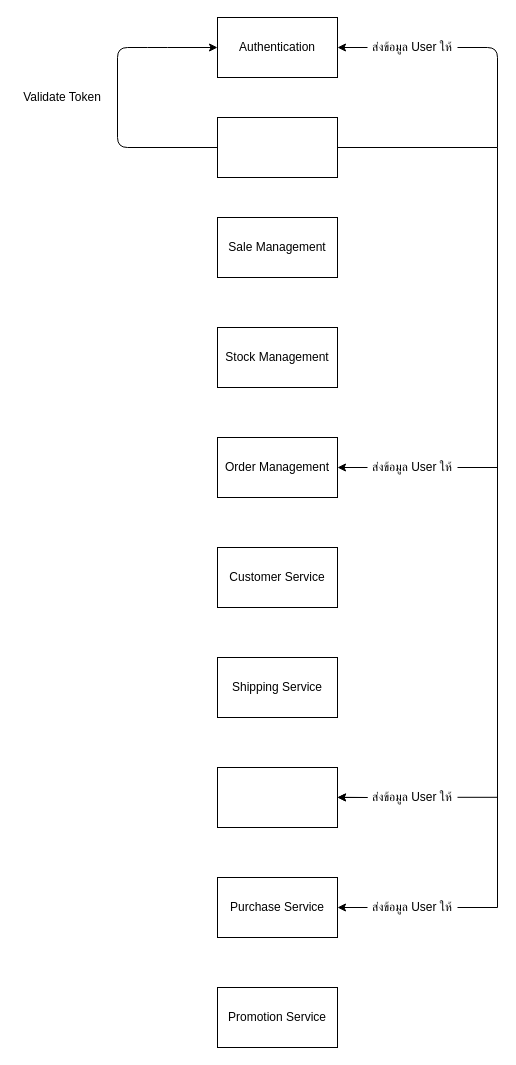
Image size: 516x1065. Some labels were removed from this diagram. The centre of each missing label's shape, as x and y in pixels:
"Payment Service" belongs at [277,797].
"User Management" belongs at [277,147].
